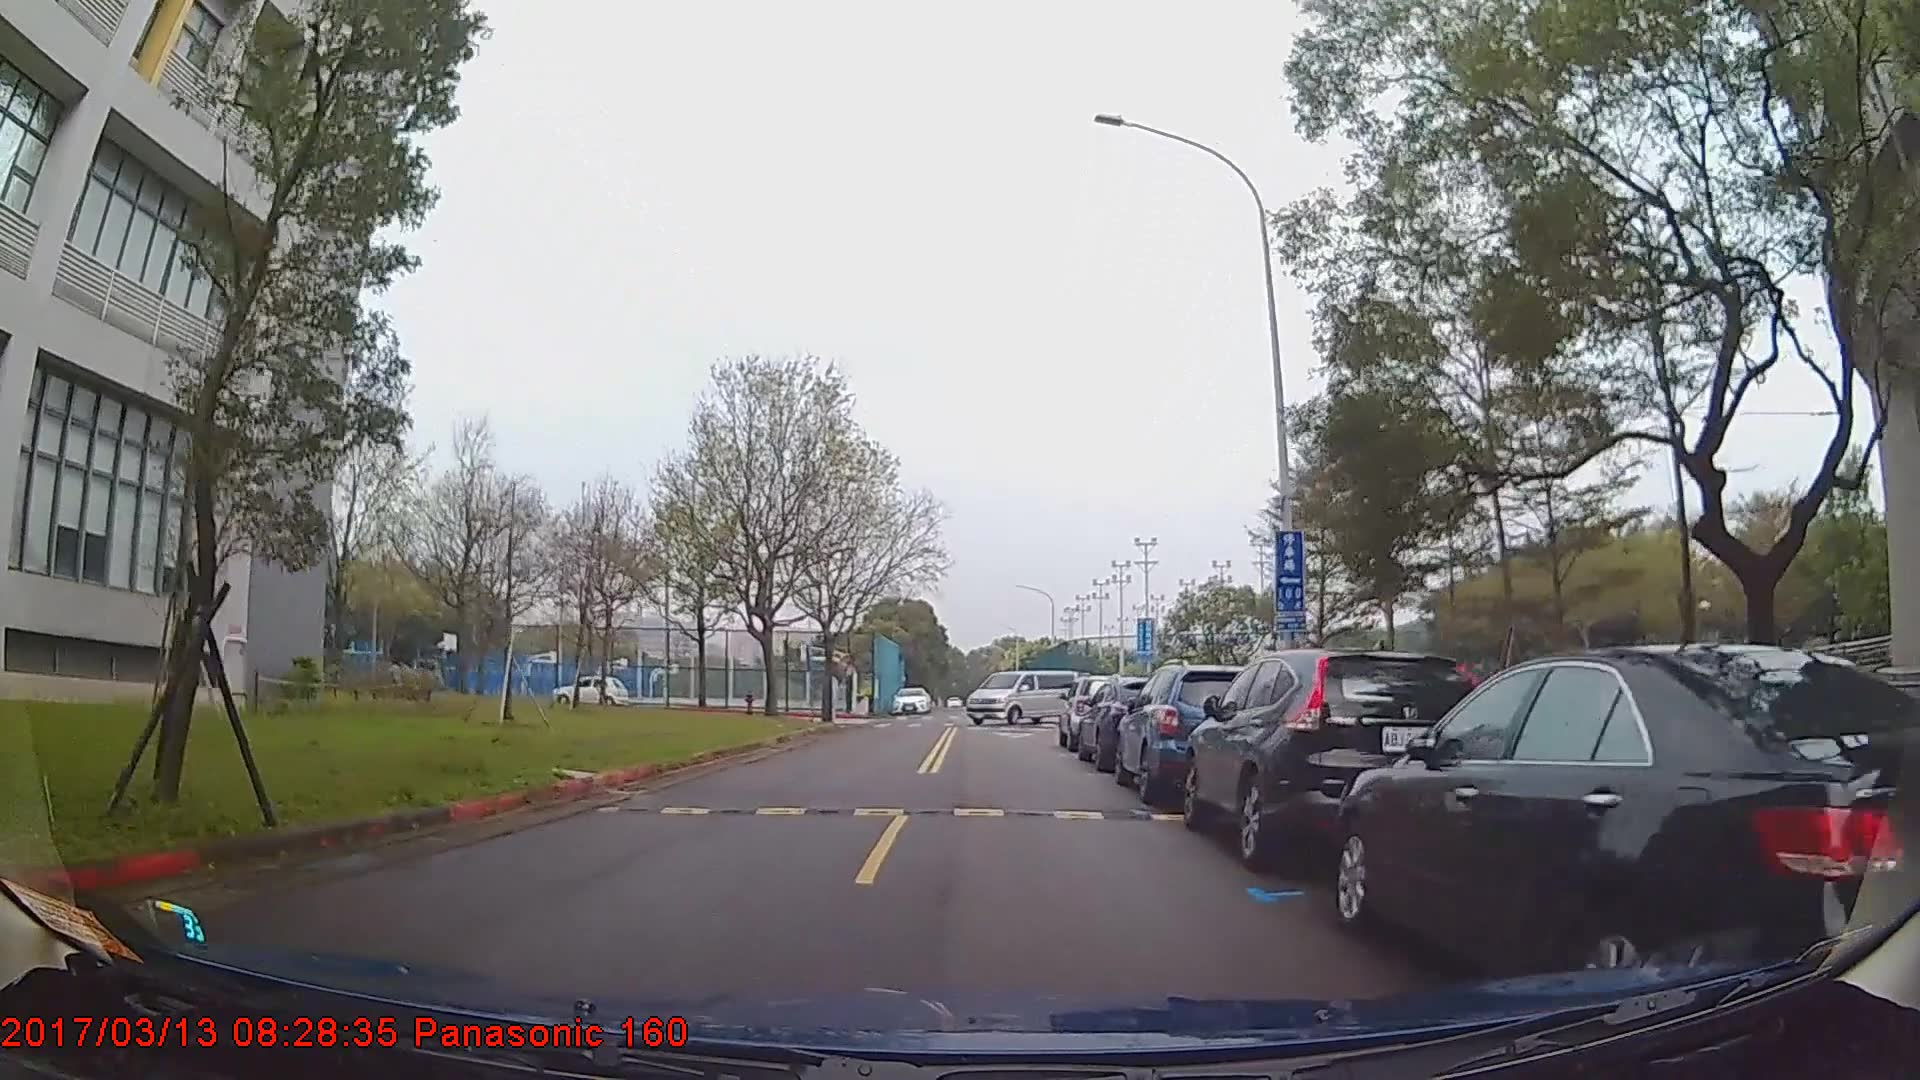vehicle: (1325, 642, 1920, 1013), (1180, 644, 1487, 868), (1112, 661, 1265, 800), (967, 666, 1080, 720), (550, 670, 630, 705), (890, 684, 932, 713)
